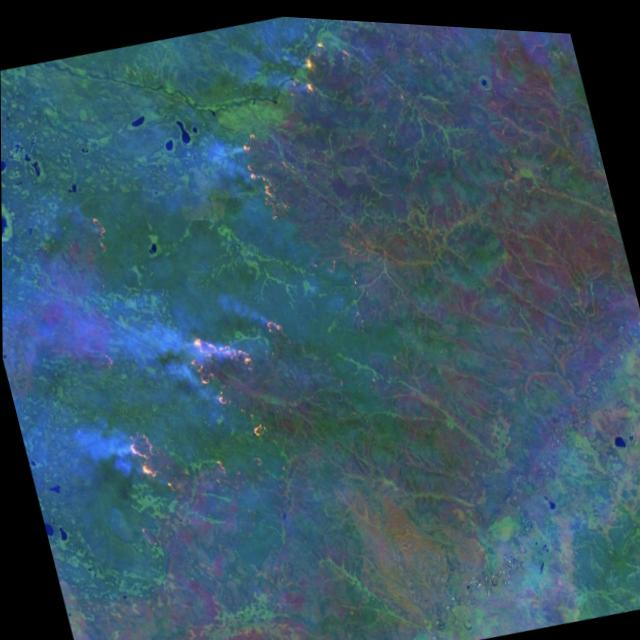fire: (169, 293, 323, 485), (227, 114, 311, 239), (280, 13, 363, 104), (113, 421, 184, 514)
